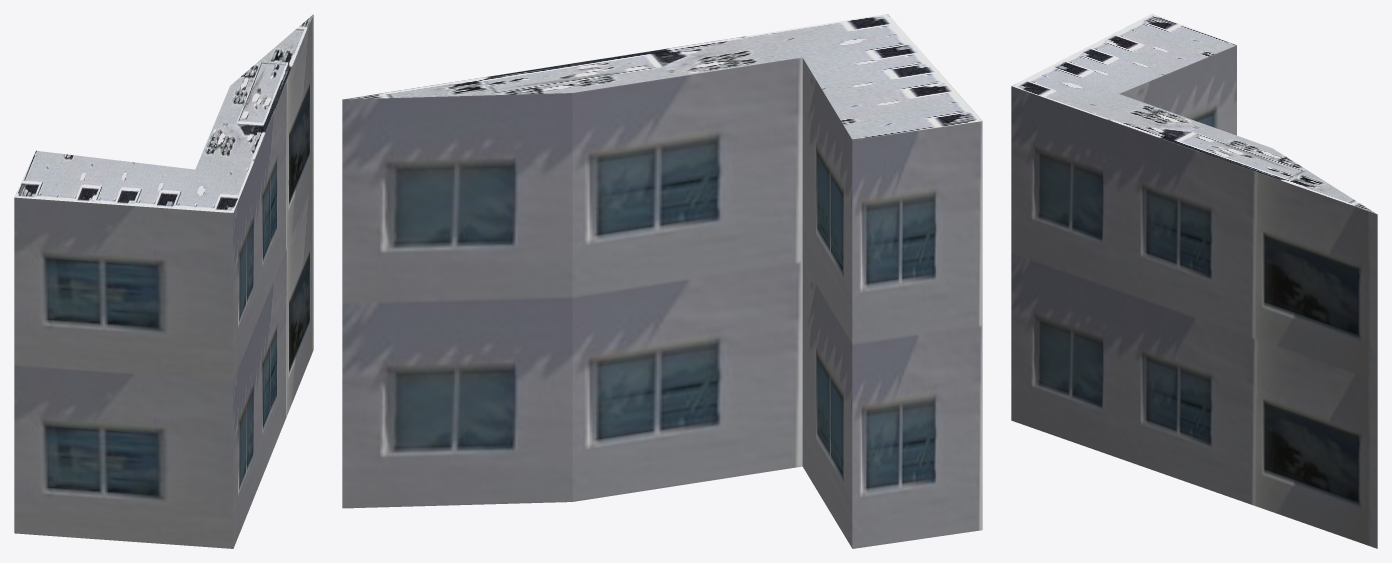
File: ResTex__931.fbx
3 views of the same model, side by side, from view 1: azimuth 30°, elevation 25°; view 2: azimuth 150°, elevation 25°; view 3: azimuth 270°, elevation 25° (orthographic). The views are drawn at different scales.
Parts seen in each view (by area): view 1: CityEngineMaterial_10_m, CityEngineMaterial_8_m; view 2: CityEngineMaterial_10_m, CityEngineMaterial_8_m; view 3: CityEngineMaterial_10_m, CityEngineMaterial_8_m.
Boxes of the visible parts, x1,y1,x2,y2 form: CityEngineMaterial_10_m: (14, 15, 313, 548); CityEngineMaterial_8_m: (14, 14, 313, 212); CityEngineMaterial_10_m: (342, 57, 982, 548); CityEngineMaterial_8_m: (344, 14, 982, 139); CityEngineMaterial_10_m: (1011, 45, 1377, 548); CityEngineMaterial_8_m: (1011, 14, 1376, 213).
Size of the model in its own units: 7.72 by 6 by 5.96.
2 materials, 2 textured.
